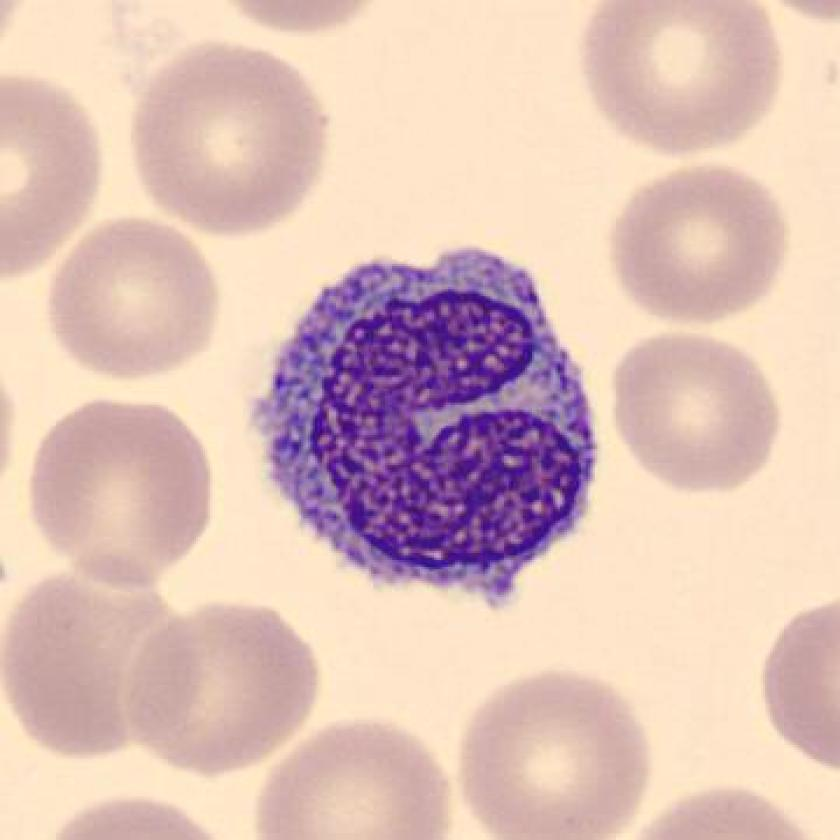monocyte: (232, 226, 629, 628)
